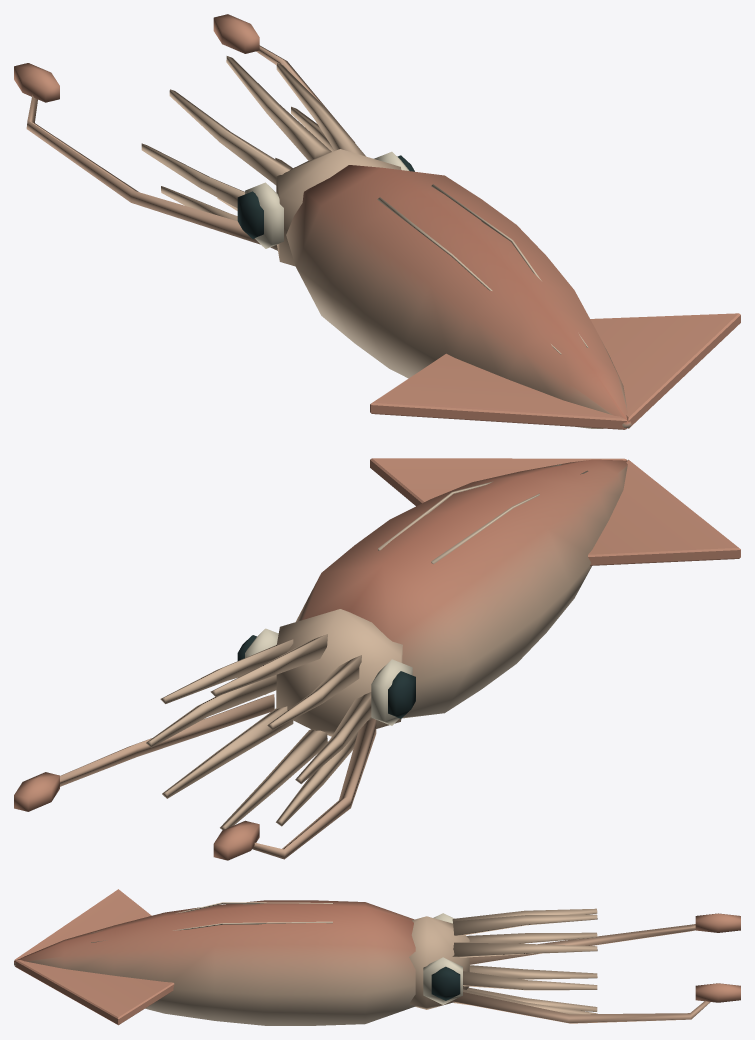
File: fish_squid_low.glb
3 views of the same model, one above another, from view 1: azimuth 30°, elevation 25°; view 2: azimuth 150°, elevation 25°; view 3: azimuth 270°, elevation 25° (orthographic). The views are drawn at different scales.
Size of the model in its own units: 0.1474 by 0.0609 by 0.35.
